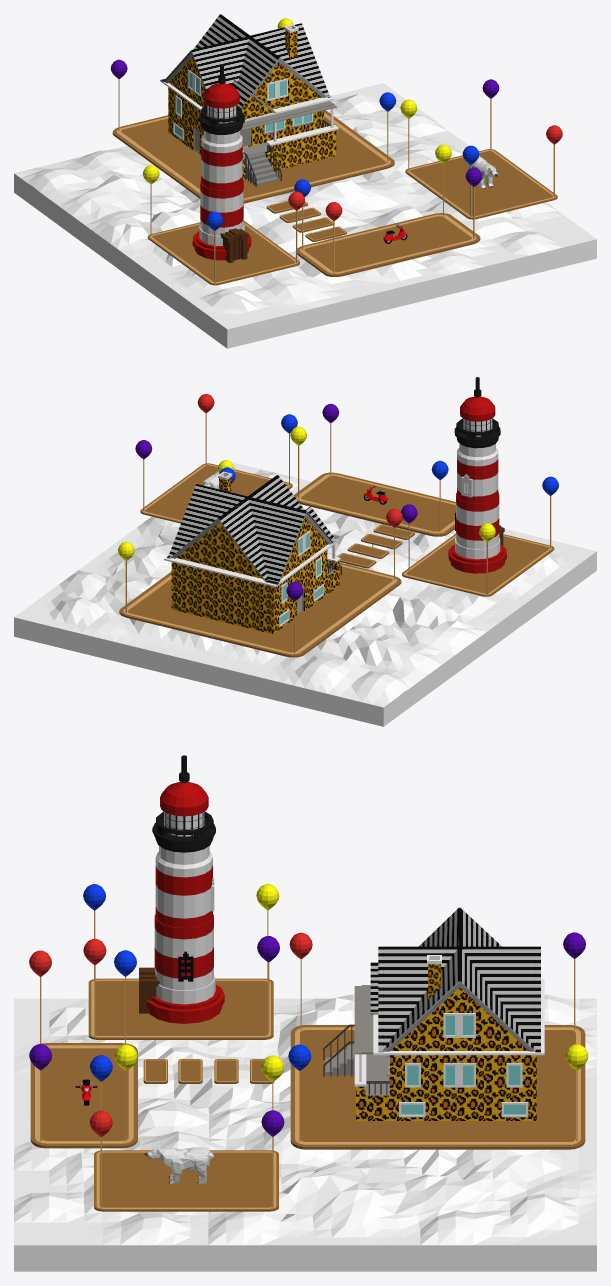
The picture shows the model from 3 angles, top to bottom: view 1: azimuth 30°, elevation 25°; view 2: azimuth 150°, elevation 25°; view 3: azimuth 270°, elevation 25°; orthographic projection. The views are drawn at different scales.
Visible parts, largest first — view 1: Cube.013, Cube.637, OBJRANDOM_LIGHTHOUSE, ANIMAL_OSO_POLAR; view 2: Cube.013, Cube.637, OBJRANDOM_LIGHTHOUSE; view 3: Cube.013, Cube.637, OBJRANDOM_LIGHTHOUSE, ANIMAL_OSO_POLAR.
Part boxes in pixels (bbox=[...]): Cube.013: bbox=[14, 18, 596, 348]; Cube.637: bbox=[160, 14, 338, 186]; OBJRANDOM_LIGHTHOUSE: bbox=[192, 64, 251, 262]; ANIMAL_OSO_POLAR: bbox=[468, 155, 498, 189]; Cube.013: bbox=[14, 394, 596, 726]; Cube.637: bbox=[164, 471, 341, 634]; OBJRANDOM_LIGHTHOUSE: bbox=[448, 377, 506, 573]; Cube.013: bbox=[14, 884, 596, 1271]; Cube.637: bbox=[323, 907, 544, 1120]; OBJRANDOM_LIGHTHOUSE: bbox=[139, 755, 224, 1023]; ANIMAL_OSO_POLAR: bbox=[144, 1145, 213, 1183].
Size of the model in its own units: 4000 by 2423 by 4000.
36 materials, 3 textured.
